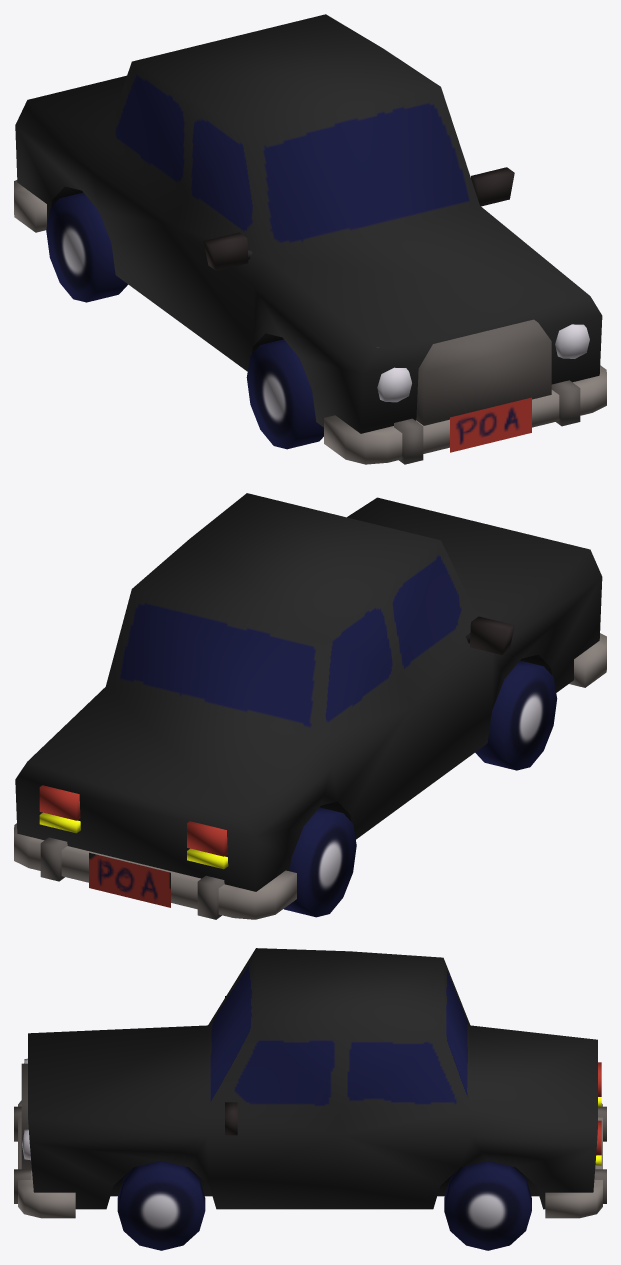
File: CGenerico_3.glb
The picture shows the model from 3 angles, top to bottom: view 1: azimuth 30°, elevation 25°; view 2: azimuth 150°, elevation 25°; view 3: azimuth 270°, elevation 25°; orthographic projection. The views are drawn at different scales.
Parts seen in each view (by area): view 1: Generico; view 2: Generico; view 3: Generico.
Boxes of the visible parts, x1,y1,x2,y2 form: Generico: (14, 14, 606, 464); Generico: (14, 493, 606, 919); Generico: (14, 948, 606, 1250).
Size of the model in its own units: 2.85 by 2.35 by 5.92.
1 material, 1 textured.
